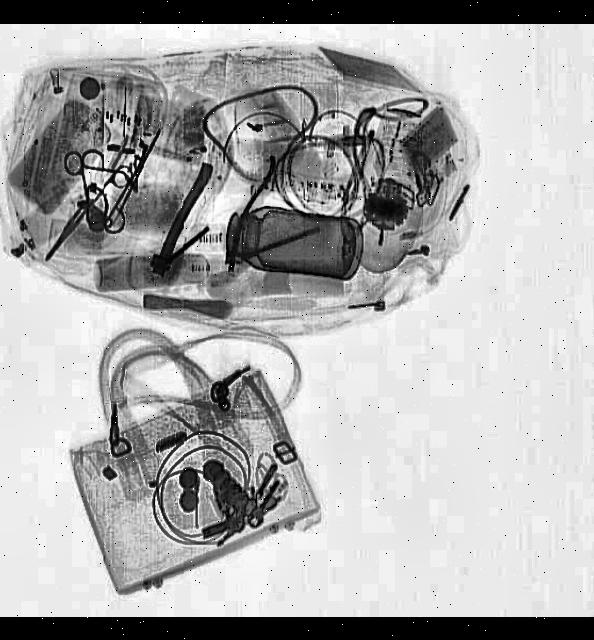Scissors: (22, 140, 142, 278)
